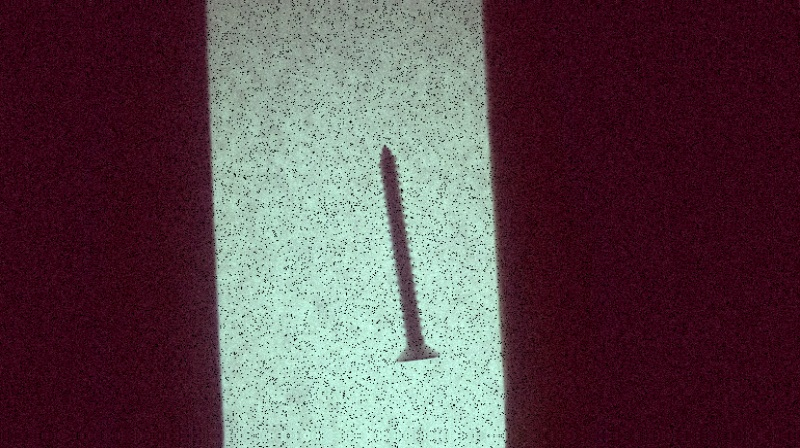S002: (375, 141, 443, 365)
